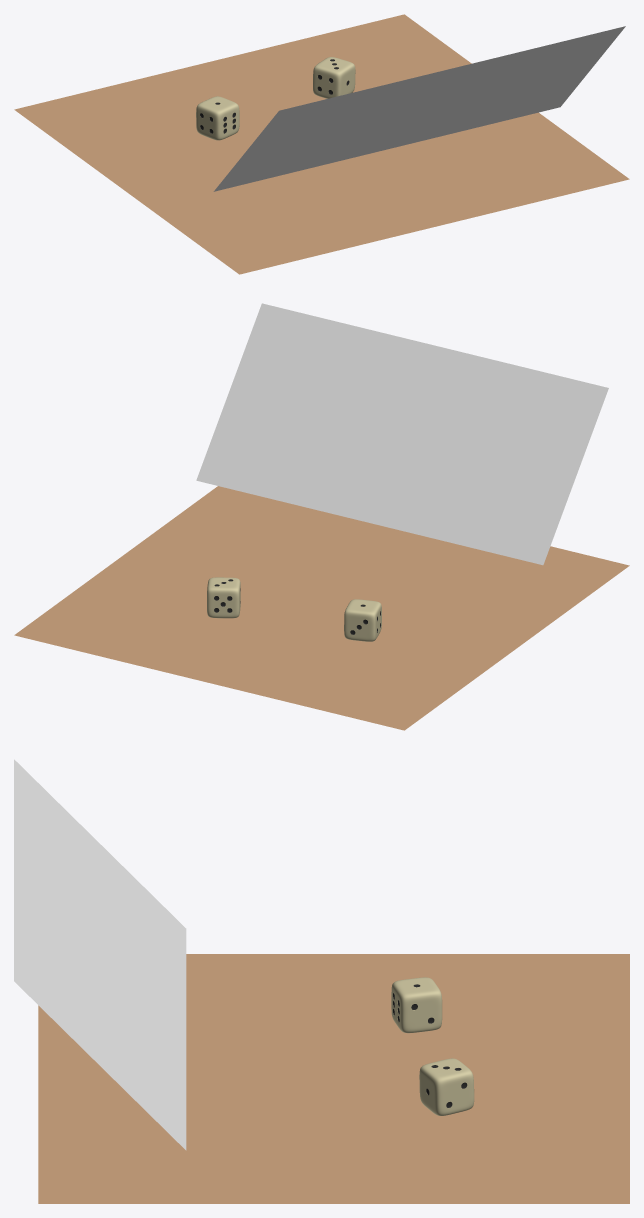
3 views of the same model, one above another, from view 1: azimuth 30°, elevation 25°; view 2: azimuth 150°, elevation 25°; view 3: azimuth 270°, elevation 25° (orthographic). The views are drawn at different scales.
Visible parts, largest first — view 1: Plane, Plane_001, Cube_001, Cube; view 2: Plane, Plane_001, Cube_001, Cube; view 3: Plane, Plane_001, Cube, Cube_001.
Part boxes in pixels (box(x1,y1,x2,y2)): Plane: box(14, 14, 629, 274); Plane_001: box(213, 26, 625, 191); Cube_001: box(196, 96, 239, 140); Cube: box(313, 57, 355, 98); Plane: box(14, 486, 629, 730); Plane_001: box(196, 303, 608, 565); Cube_001: box(344, 599, 381, 641); Cube: box(207, 577, 240, 618); Plane: box(38, 954, 629, 1203); Plane_001: box(14, 759, 186, 1150); Cube: box(419, 1058, 474, 1115); Cube_001: box(391, 977, 442, 1033).
Bounding box in the file's own units: 22 × 22.91 × 8.79.
